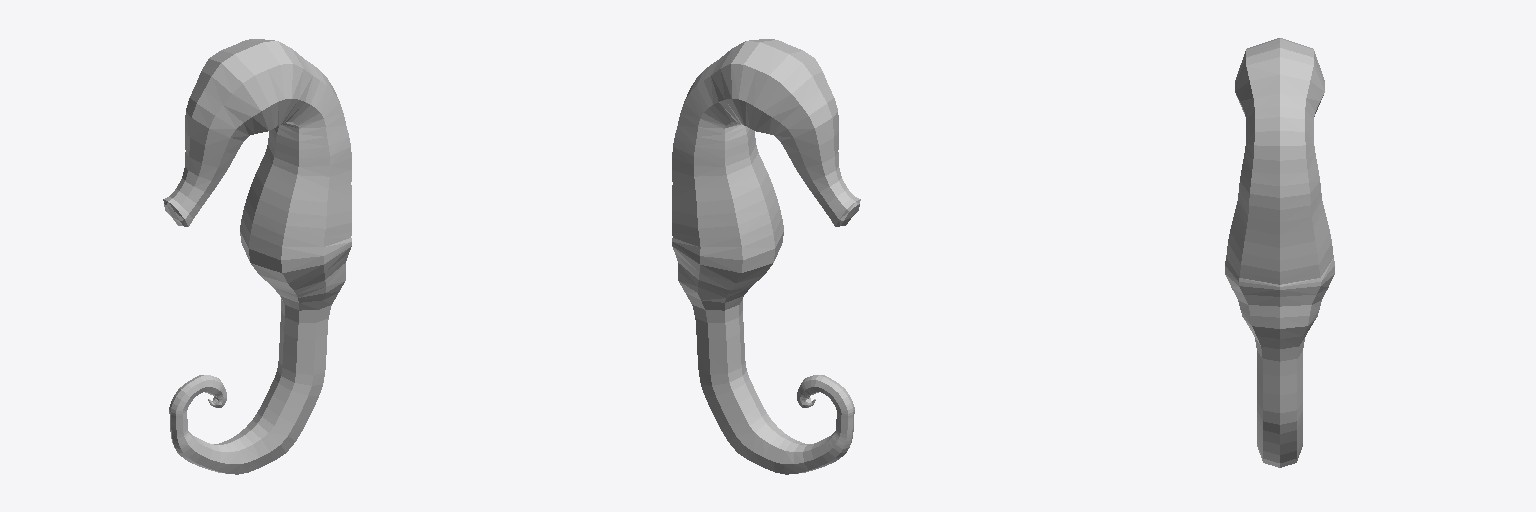
File: seahorse.obj
The picture shows the model from 3 angles: view 1: azimuth 30°, elevation 25°; view 2: azimuth 150°, elevation 25°; view 3: azimuth 270°, elevation 25°; orthographic projection.
Visible parts, largest first — view 1: Cube_Cube.001; view 2: Cube_Cube.001; view 3: Cube_Cube.001.
Part boxes in pixels (left/top/right/bottom): Cube_Cube.001: left=163, top=39, right=351, bottom=474; Cube_Cube.001: left=672, top=39, right=860, bottom=474; Cube_Cube.001: left=1225, top=38, right=1334, bottom=467.
Bounding box in the file's own units: 2.59 × 5.9 × 1.39.